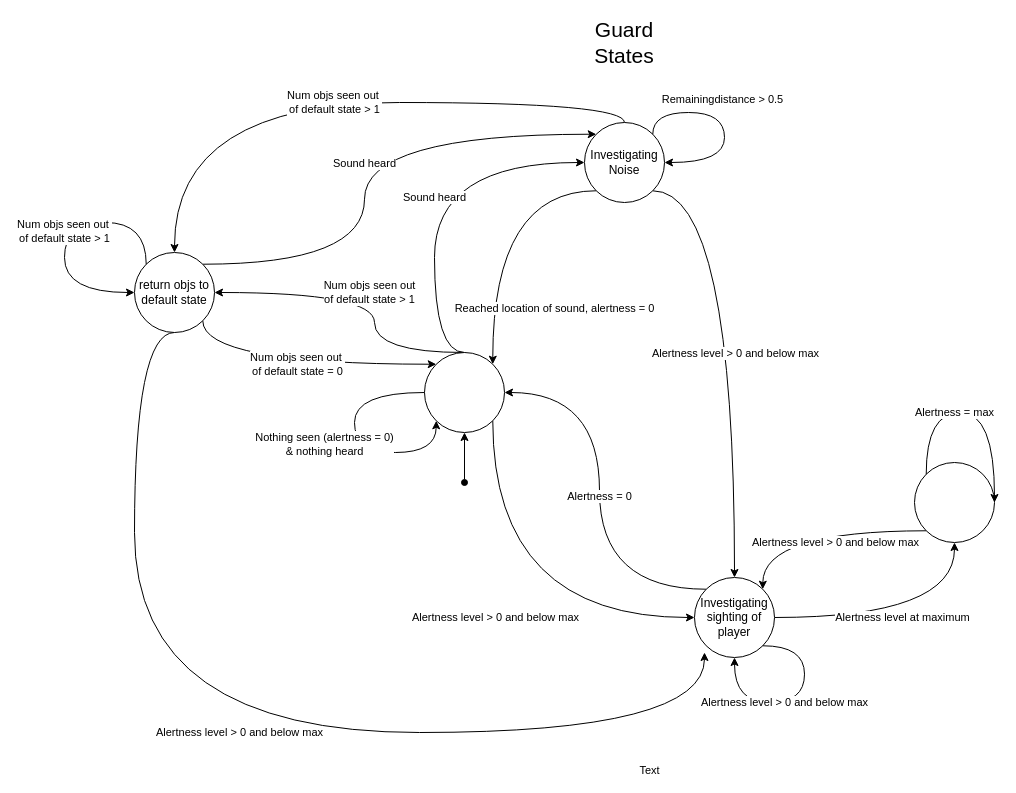
This 1016x793 diagram has some shape labels left out. Here are the shapes that lost their labels. From the top down, the centre of each, then its label:
point (464, 392): Default / go to next waypoint
point (954, 502): Chasing player
